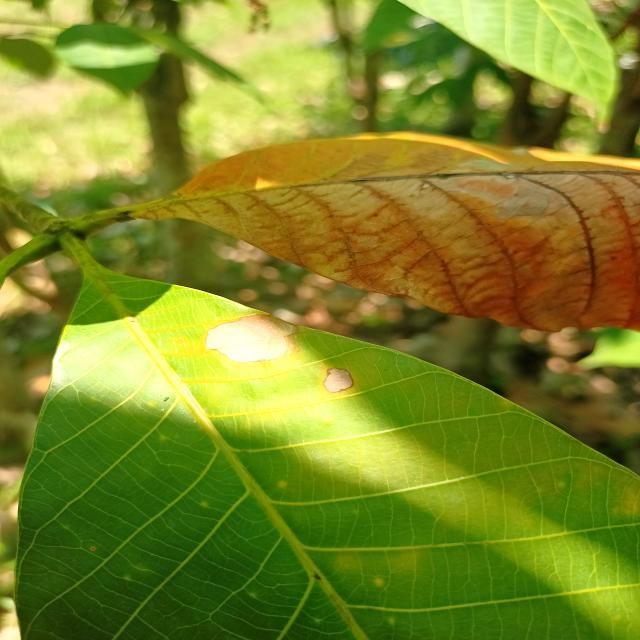Leaf-Blight: (207, 314, 296, 363), (324, 368, 353, 392)
